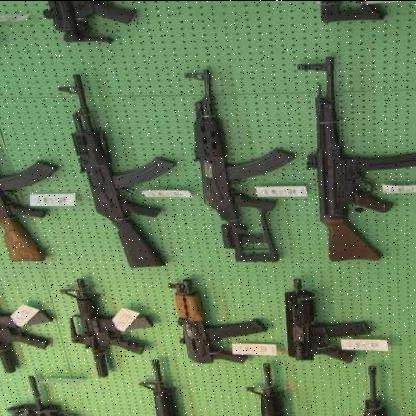rifle: (172, 60, 314, 270), (49, 61, 186, 274), (291, 46, 408, 259), (44, 265, 163, 383), (158, 270, 275, 370), (274, 271, 382, 368)
